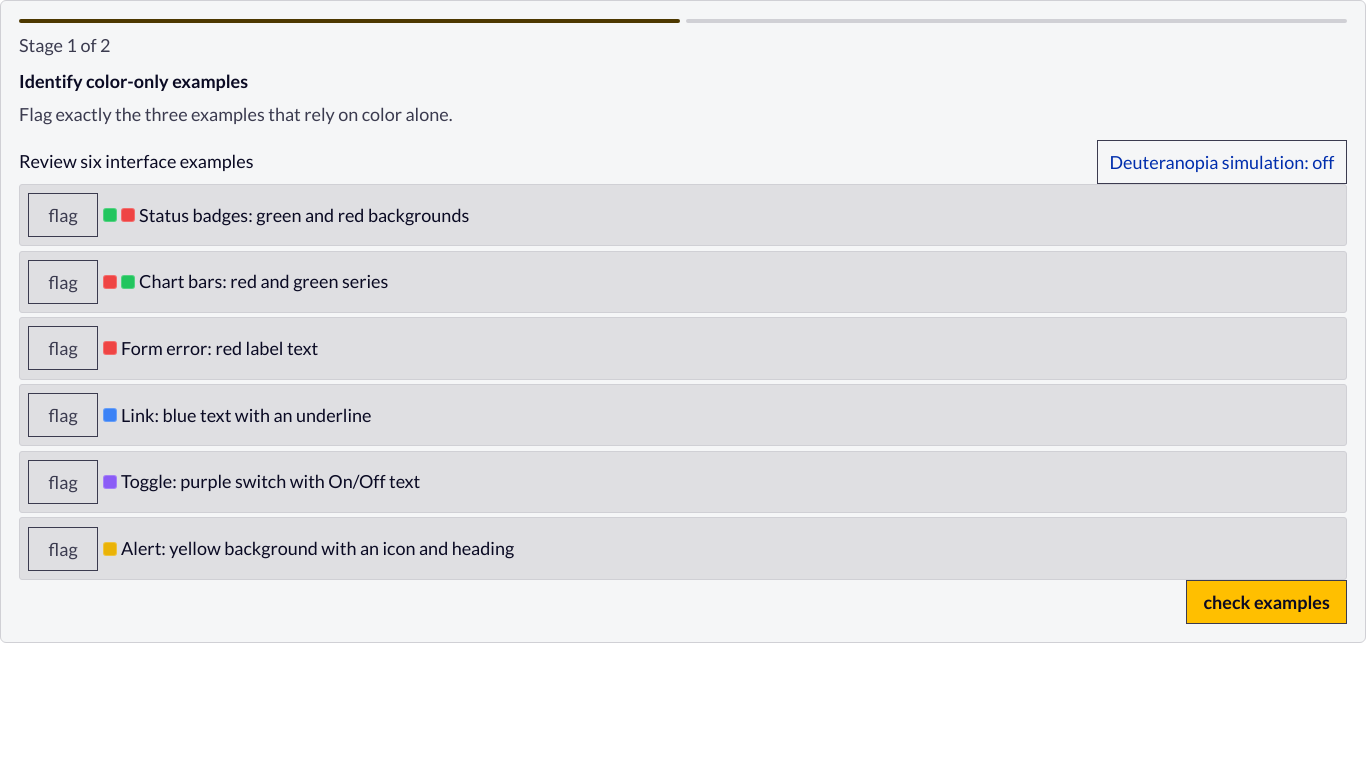
Test case: SimulationSpotterChallenge › separates identification from repair controls
Expected: the text "Stage 1 of 2" is shown, [19,34,110,56]
Click the button "flag" next to "Status badges: green and red backgrounds" at (63, 215), box [28,193,98,237]
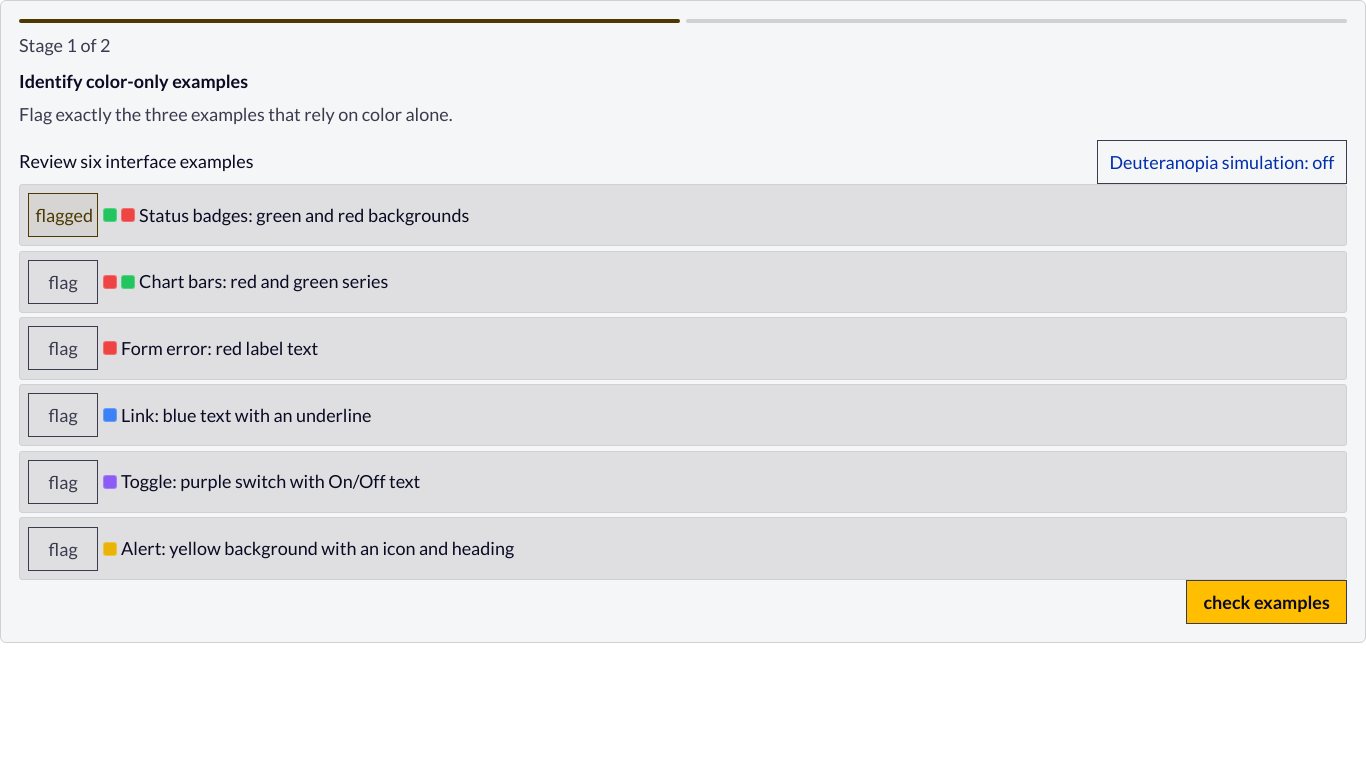
Click the button "flag" next to "Chart bars: red and green series" at (63, 282), box [28,260,98,304]
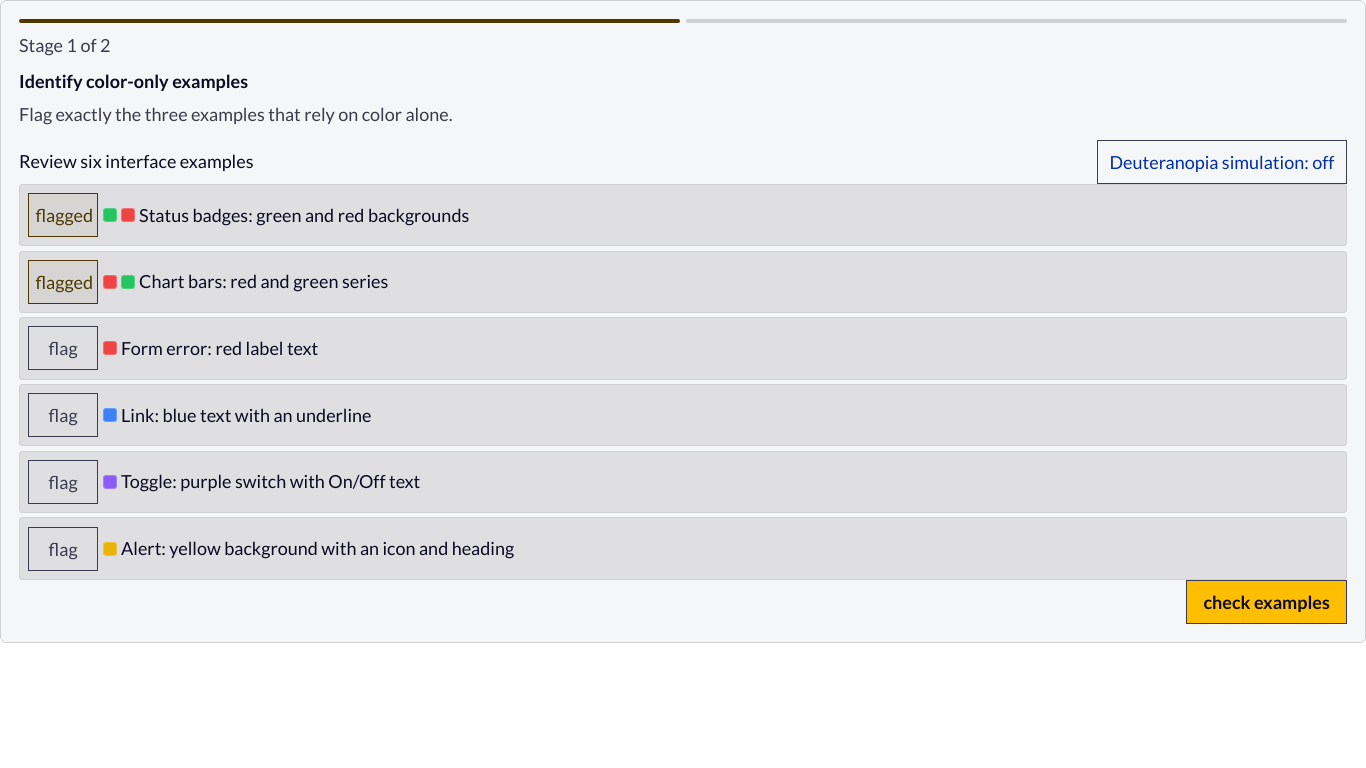
Click the button "flag" next to "Form error: red label text" at (63, 348), box [28,326,98,370]
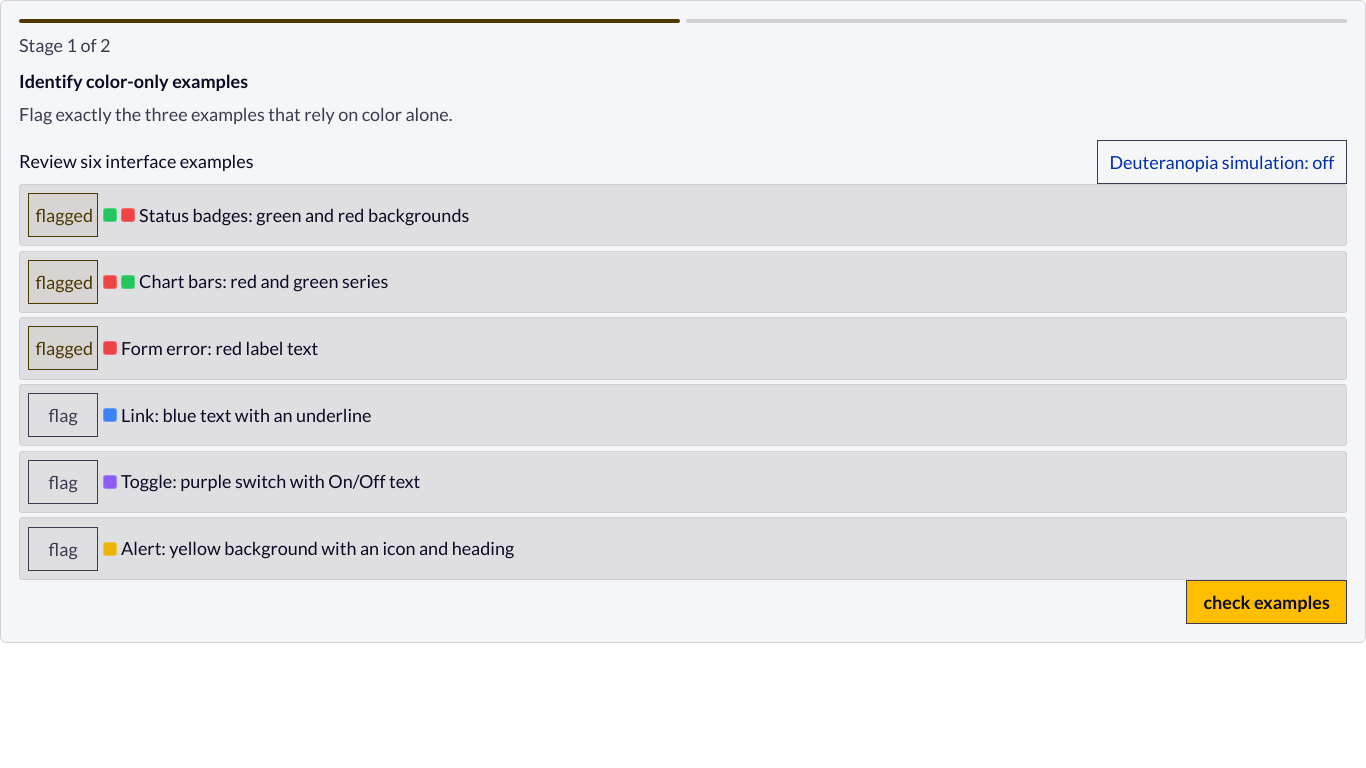
Click the button "check examples" at (1267, 602), box [1186,580,1347,624]
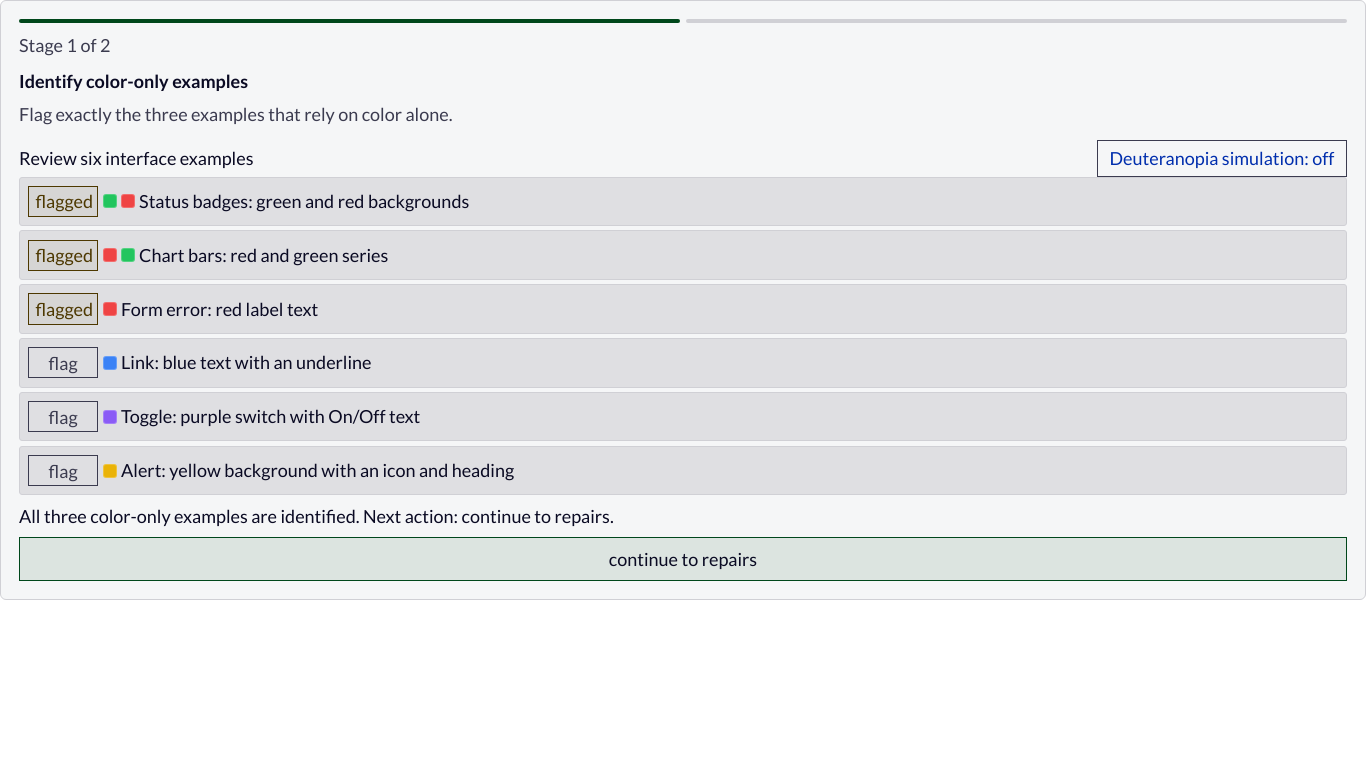
Click the button "continue to repairs" at (683, 559), box [19,537,1347,581]
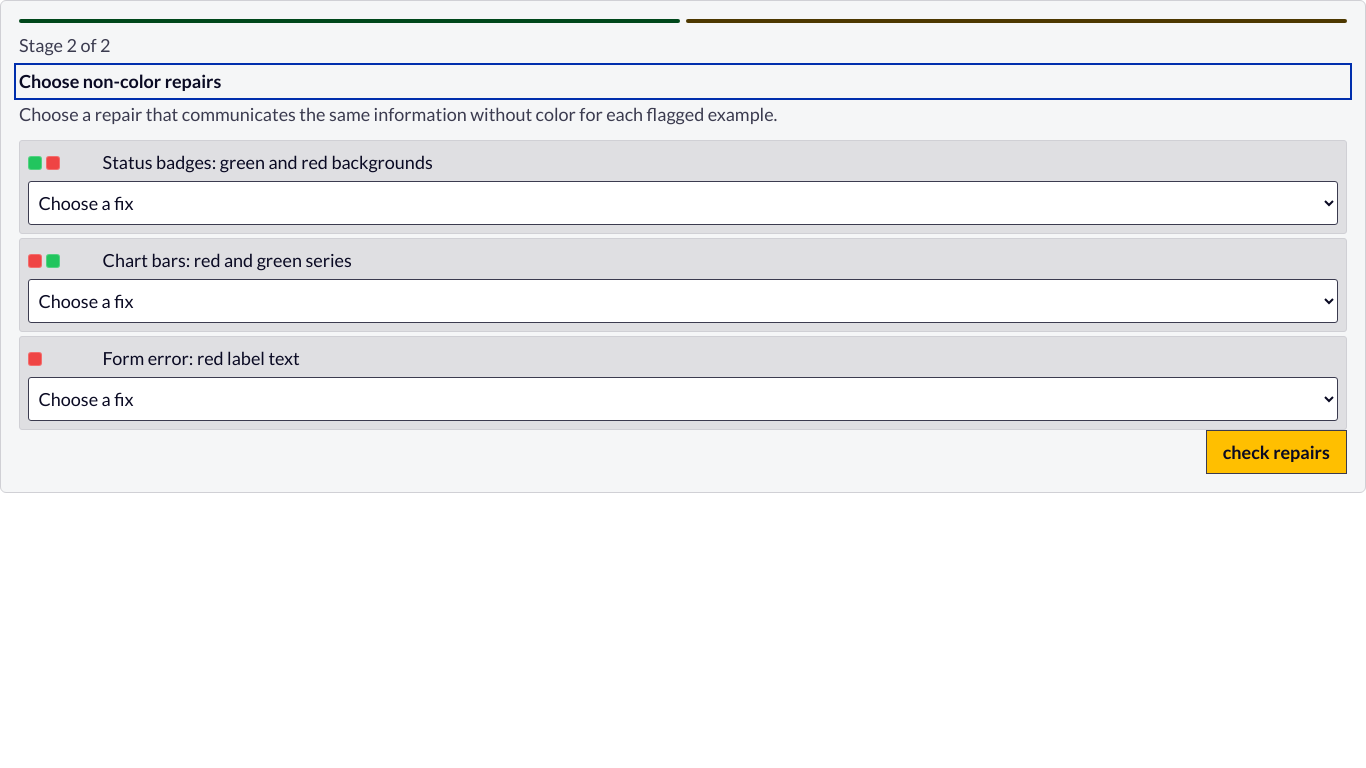
Expected: the text "Stage 2 of 2" is shown, [19,34,110,56]
Expected: the number of dropdowns is 3, [28,181,1338,225]; [28,279,1338,323]; [28,377,1338,421]
